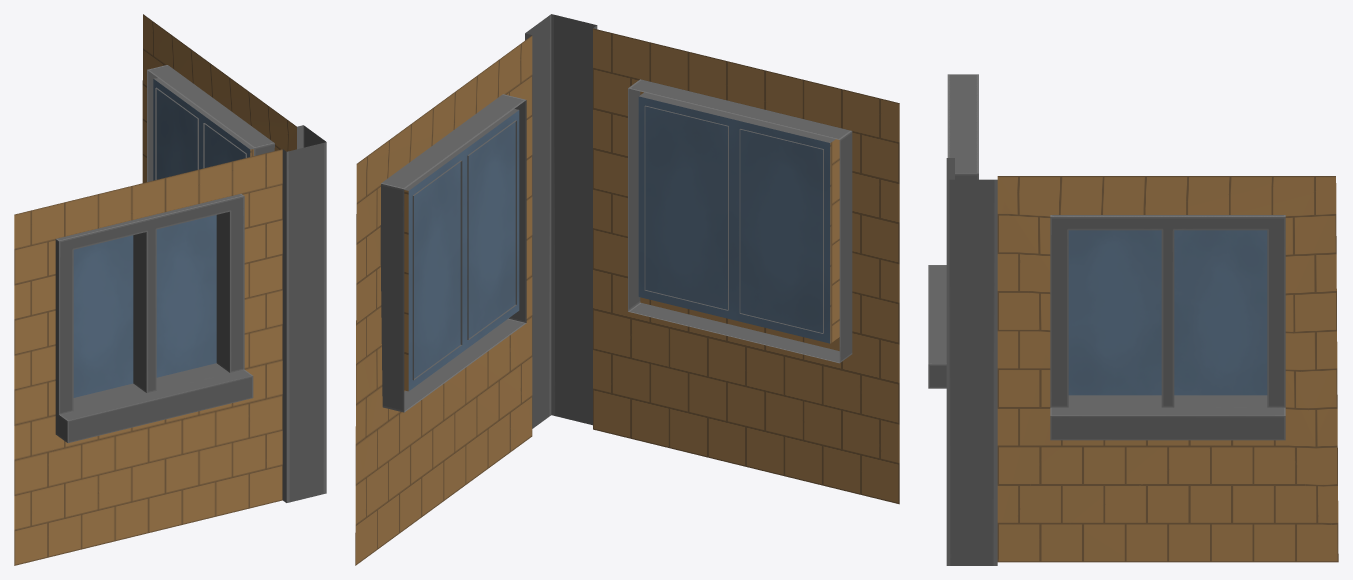
The model's file is Wall_1_corner.fbx.
3 renders of one model, left to right at view 1: azimuth 30°, elevation 25°; view 2: azimuth 150°, elevation 25°; view 3: azimuth 270°, elevation 25°, orthographic. The views are drawn at different scales.
Visible parts, largest first — view 1: Wall_1_corner; view 2: Wall_1_corner; view 3: Wall_1_corner.
Boxes of the visible parts, bbox=[...] form: Wall_1_corner: bbox=[14, 14, 326, 565]; Wall_1_corner: bbox=[355, 14, 899, 565]; Wall_1_corner: bbox=[928, 74, 1338, 565].
Size of the model in its own units: 337 by 350 by 337.
